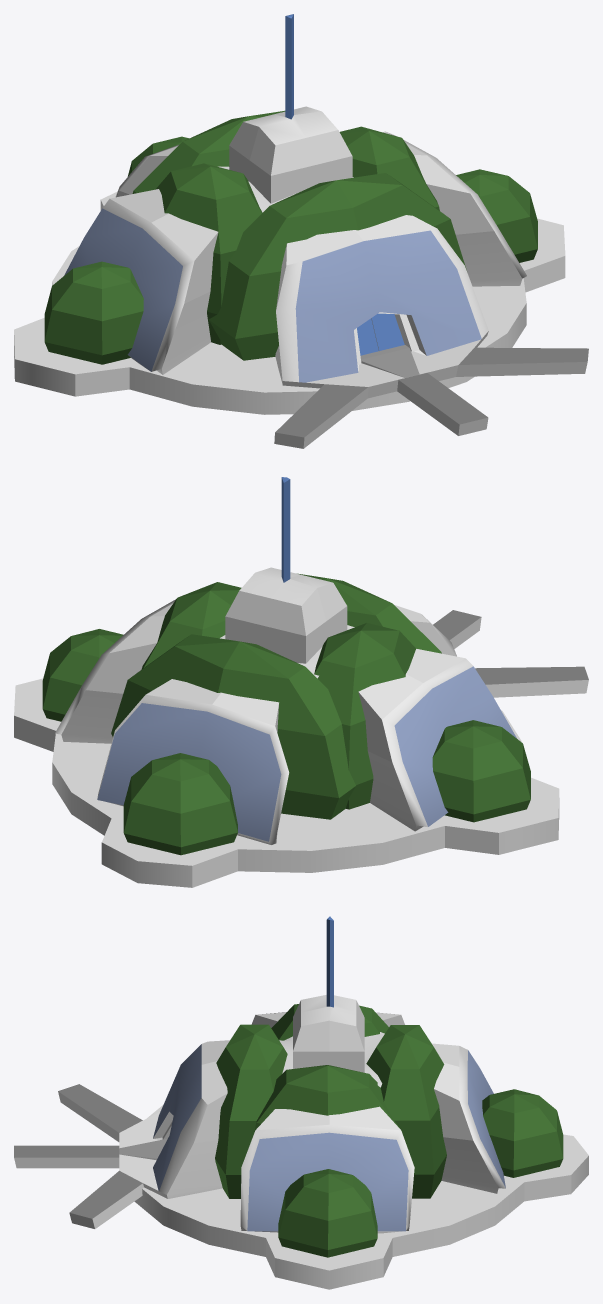
The model's file is FloatingCommunity_Blockout.fbx.
The picture shows the model from 3 angles, top to bottom: view 1: azimuth 30°, elevation 25°; view 2: azimuth 150°, elevation 25°; view 3: azimuth 270°, elevation 25°; orthographic projection. The views are drawn at different scales.
Visible parts, largest first — view 1: Floating_community1; view 2: Floating_community1; view 3: Floating_community1.
Boxes of the visible parts, x1,y1,x2,y2 form: Floating_community1: (14, 14, 588, 448); Floating_community1: (14, 477, 588, 887); Floating_community1: (14, 916, 588, 1289).
Bounding box in the file's own units: 0.1914 × 0.1028 × 0.2021.
